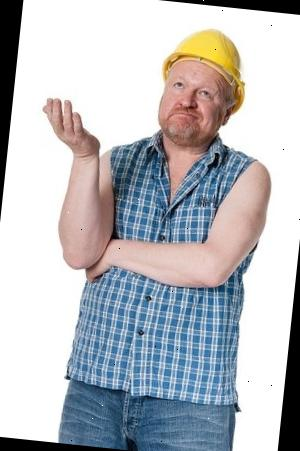helmet: (156, 22, 252, 112)
no_wear: (74, 139, 264, 405)
